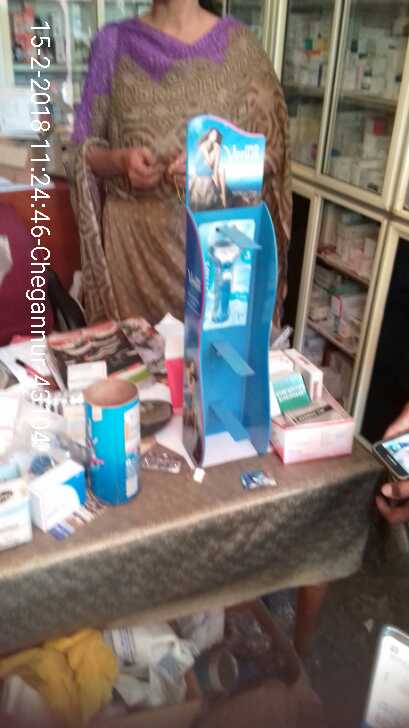venus: (192, 222, 257, 328)
